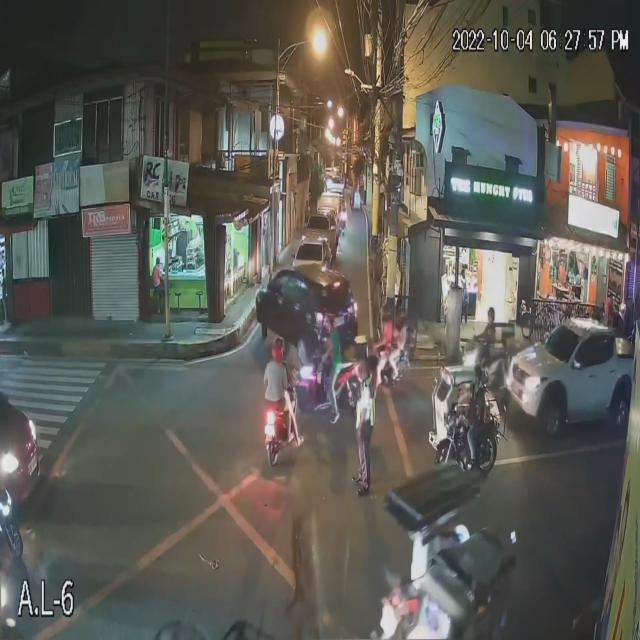Full-Faced: (379, 302, 394, 331), (485, 303, 498, 334), (395, 304, 407, 334), (272, 340, 282, 366)
Half-Faced: (320, 308, 335, 334)
